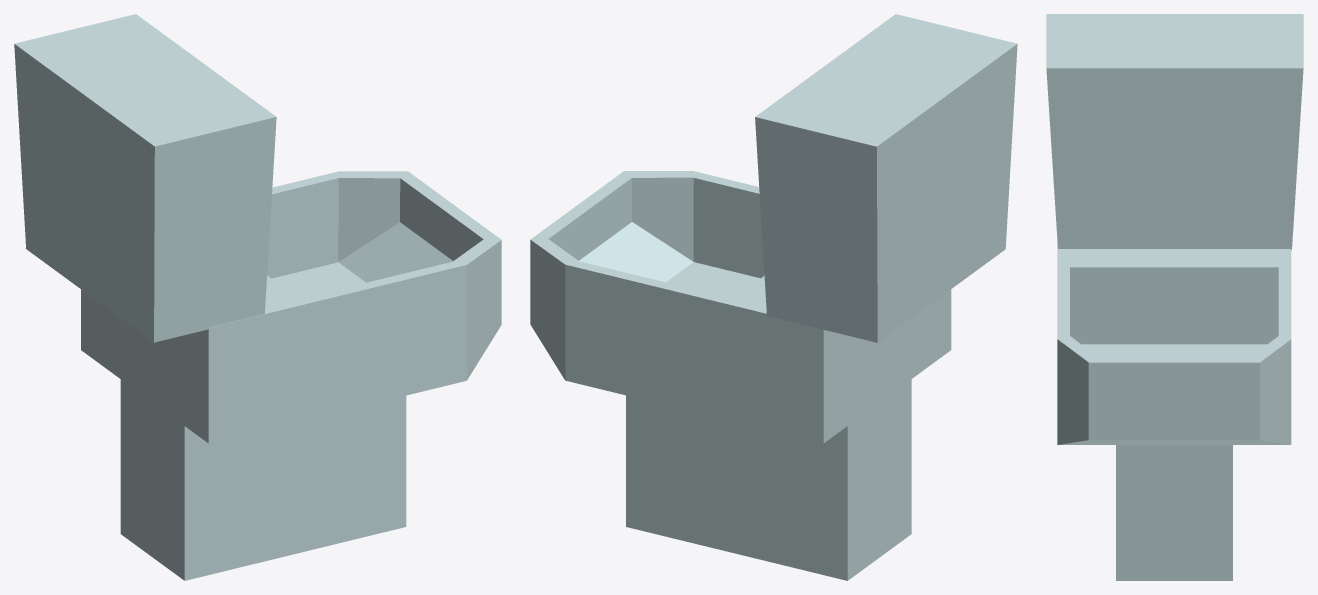
Rendered from toilet.fbx.
3 views of the same model, side by side, from view 1: azimuth 30°, elevation 25°; view 2: azimuth 150°, elevation 25°; view 3: azimuth 270°, elevation 25° (orthographic). The views are drawn at different scales.
Parts seen in each view (by area): view 1: toilet; view 2: toilet; view 3: toilet.
Boxes of the visible parts, left/top/right/bottom form: toilet: left=14, top=14, right=501, bottom=580; toilet: left=530, top=14, right=1017, bottom=580; toilet: left=1046, top=14, right=1303, bottom=580.
Size of the model in its own units: 66.84 by 82.63 by 43.99.
